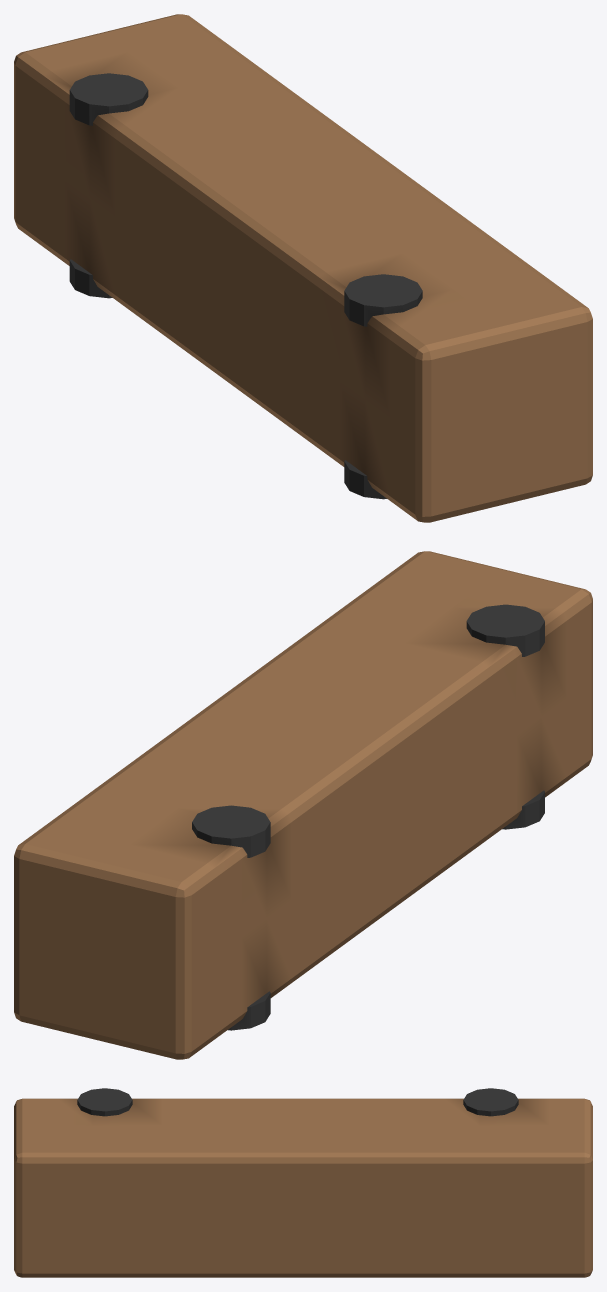
Rendered from onibus_r1.glb.
The picture shows the model from 3 angles, top to bottom: view 1: azimuth 30°, elevation 25°; view 2: azimuth 150°, elevation 25°; view 3: azimuth 270°, elevation 25°; orthographic projection. The views are drawn at different scales.
Visible parts, largest first — view 1: onibus_r1; view 2: onibus_r1; view 3: onibus_r1.
Boxes of the visible parts, x1,y1,x2,y2 form: onibus_r1: [14, 14, 592, 522]; onibus_r1: [14, 551, 592, 1059]; onibus_r1: [14, 1088, 592, 1277].
Size of what is drawn, in the model's own units: 2.7 by 2.7 by 10.5.
